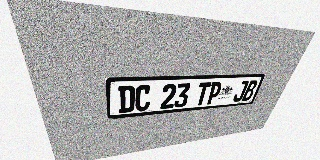2: (160, 84, 177, 109)
3: (173, 83, 191, 108)
B: (241, 80, 259, 101)
C: (135, 85, 152, 112)
D: (118, 85, 135, 113)
J: (232, 81, 249, 102)
P: (205, 82, 223, 105)
T: (194, 82, 212, 106)
